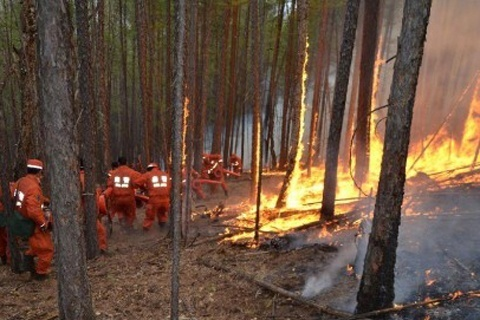fire: (245, 23, 395, 237)
